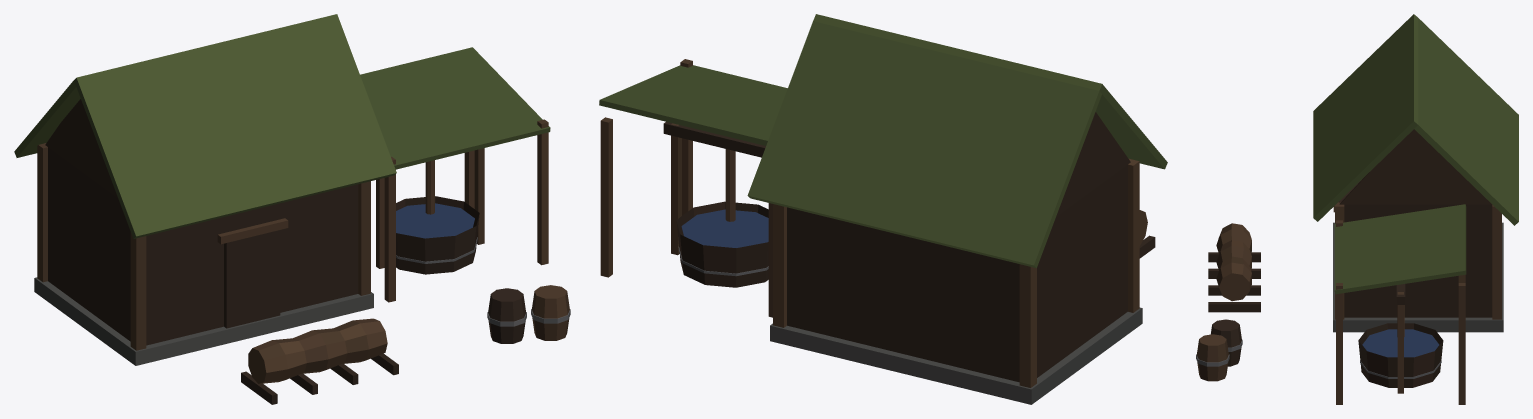
The model's file is walk_rime_winery.glb.
The picture shows the model from 3 angles, left to right: view 1: azimuth 30°, elevation 25°; view 2: azimuth 150°, elevation 25°; view 3: azimuth 270°, elevation 25°; orthographic projection. The views are drawn at different scales.
Parts seen in each view (by area): view 1: walk_rime_winery, walk_rime_winery_roof; view 2: walk_rime_winery, walk_rime_winery_roof; view 3: walk_rime_winery_roof, walk_rime_winery.
Boxes of the visible parts, x1,y1,x2,y2 form: walk_rime_winery: [34, 99, 570, 404]; walk_rime_winery_roof: [14, 14, 550, 238]; walk_rime_winery: [600, 59, 1155, 404]; walk_rime_winery_roof: [599, 14, 1167, 268]; walk_rime_winery_roof: [1313, 14, 1518, 294]; walk_rime_winery: [1196, 129, 1503, 404].
Size of what is drawn, in the model's own units: 9.5 by 5.45 by 7.38.
2 materials, 2 textured.
